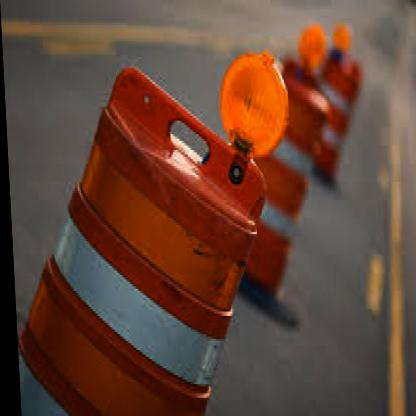obstacle: (4, 86, 315, 414)
